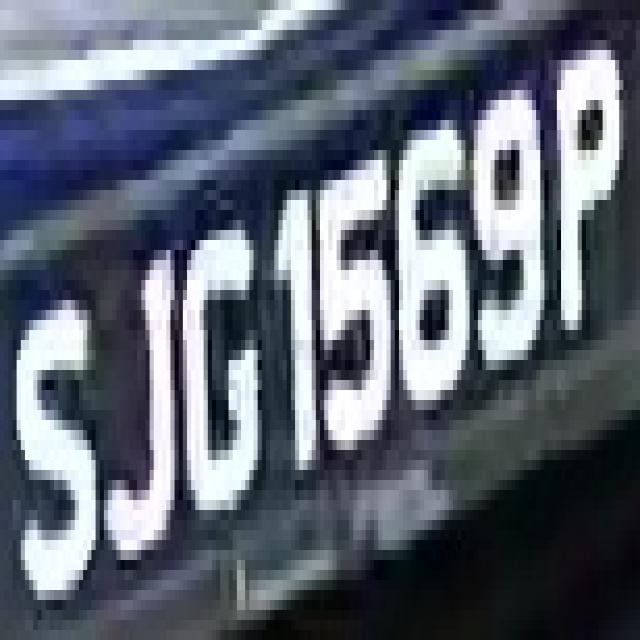1: (270, 130, 324, 510)
5: (312, 130, 391, 470)
6: (378, 100, 478, 450)
9: (449, 70, 548, 390)
G: (179, 200, 262, 550)
J: (91, 210, 179, 580)
P: (540, 30, 628, 360)
S: (4, 240, 100, 610)
